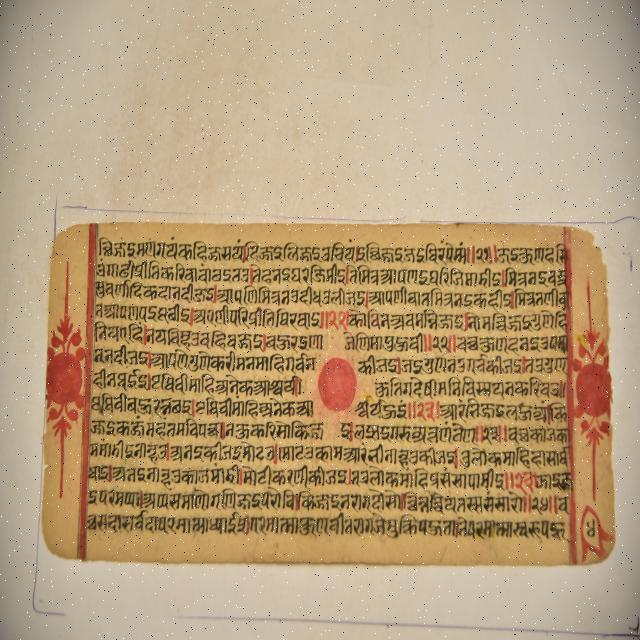text_paragraph: (37, 222, 616, 562)
